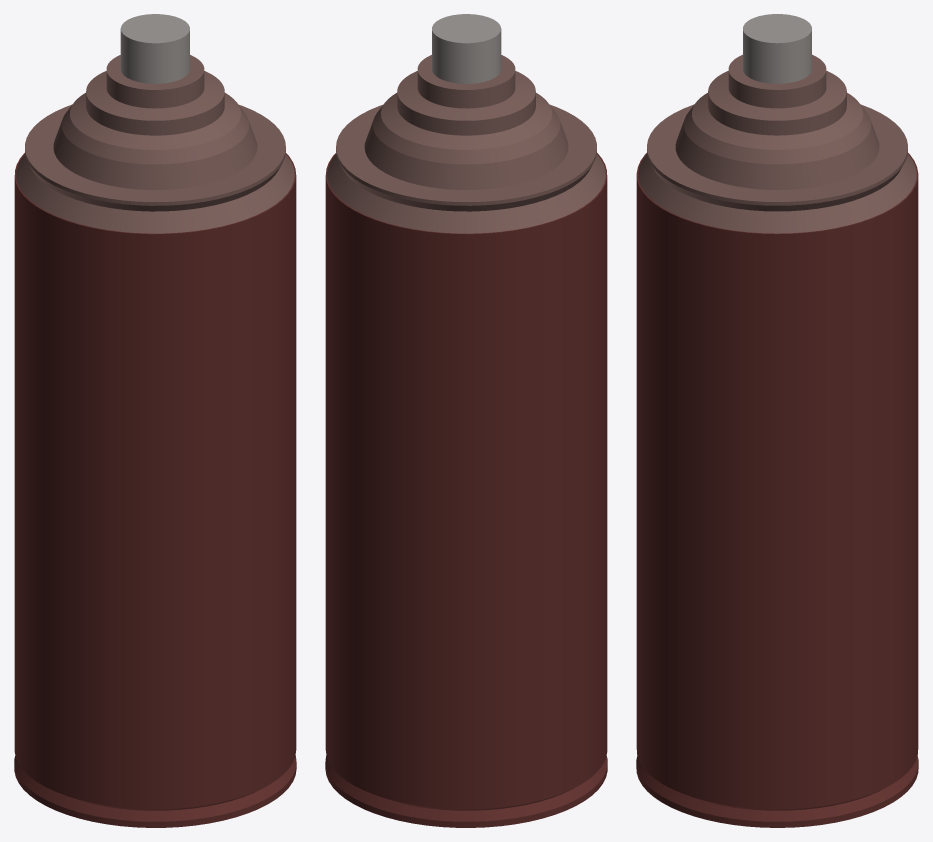
3 views of the same model, side by side, from view 1: azimuth 30°, elevation 25°; view 2: azimuth 150°, elevation 25°; view 3: azimuth 270°, elevation 25° (orthographic).
Visible parts, largest first — view 1: aerosol_can; view 2: aerosol_can; view 3: aerosol_can.
Part boxes in pixels (<box>): aerosol_can: <box>14,14,296,827</box>; aerosol_can: <box>325,14,607,827</box>; aerosol_can: <box>636,14,918,827</box>.
Size of the model in its own units: 0.0692 by 0.2 by 0.0692.
